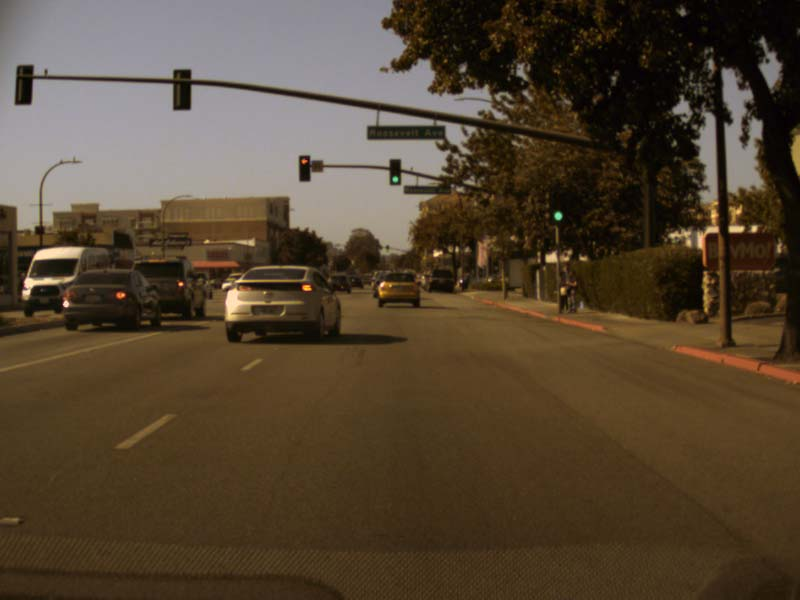Green: (549, 191, 566, 225), (389, 158, 400, 184), (385, 246, 389, 252)
Red: (299, 154, 310, 181)
